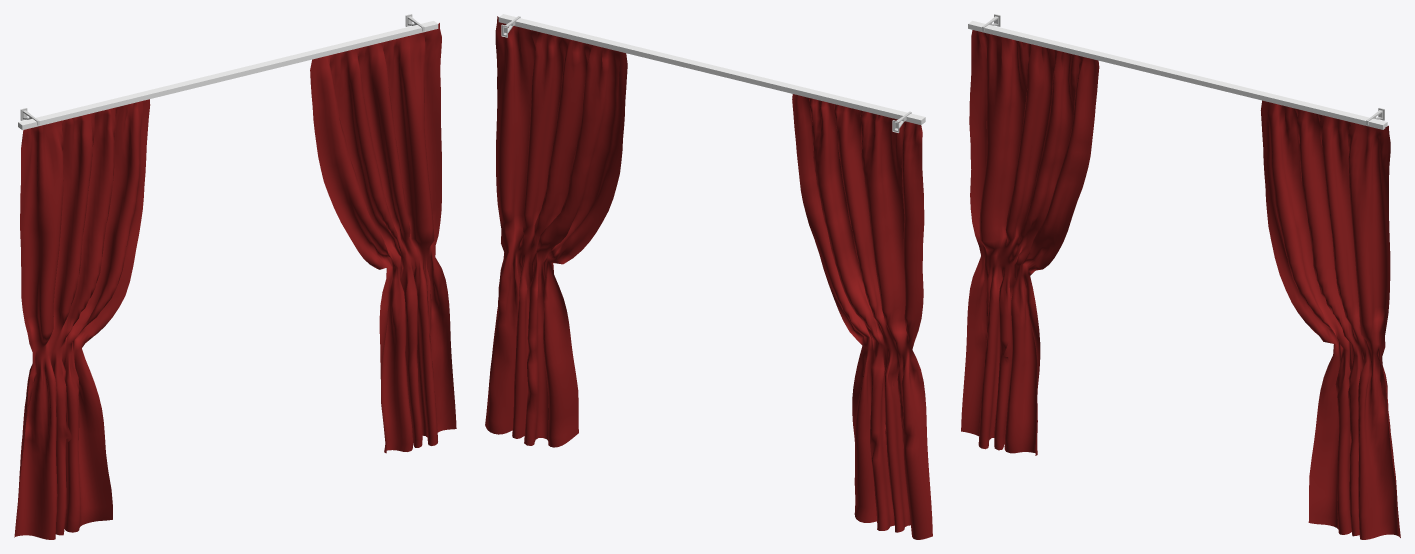
Rendered from curtains.fbx.
3 views of the same model, side by side, from view 1: azimuth 30°, elevation 25°; view 2: azimuth 150°, elevation 25°; view 3: azimuth 330°, elevation 25° (orthographic).
Parts seen in each view (by area): view 1: Plane001, Plane002, Box001; view 2: Plane002, Plane001, Box001; view 3: Plane002, Plane001, Box001.
Part boxes in pixels (left/top/right/bottom): Plane001: left=14, top=99, right=150, bottom=539; Plane002: left=310, top=23, right=456, bottom=453; Box001: left=18, top=21, right=438, bottom=130; Plane002: left=485, top=16, right=627, bottom=447; Plane001: left=792, top=94, right=932, bottom=539; Box001: left=498, top=14, right=925, bottom=124; Plane002: left=1260, top=100, right=1400, bottom=539; Plane001: left=961, top=30, right=1099, bottom=455; Box001: left=968, top=20, right=1387, bottom=129.
Size of the model in its own units: 424 by 383 by 43.
